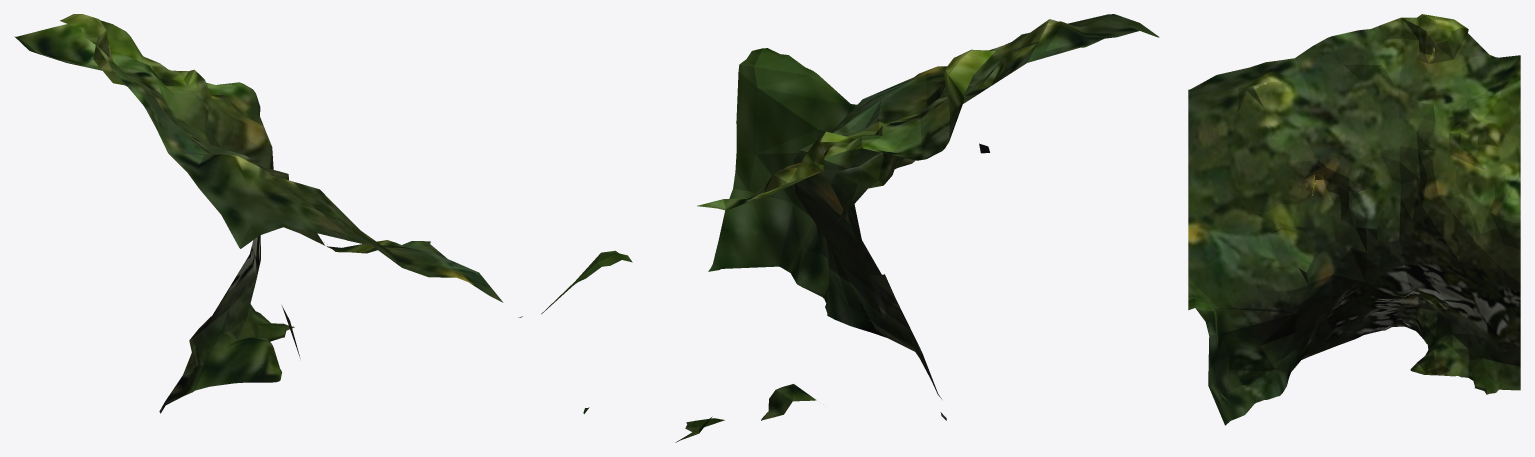
The picture shows the model from 3 angles, left to right: view 1: azimuth 30°, elevation 25°; view 2: azimuth 150°, elevation 25°; view 3: azimuth 270°, elevation 25°; orthographic projection. The views are drawn at different scales.
Bounding box in the file's own units: 0.8373 × 0.8042 × 0.8374.
Materials: 4 (4 with a texture image).
